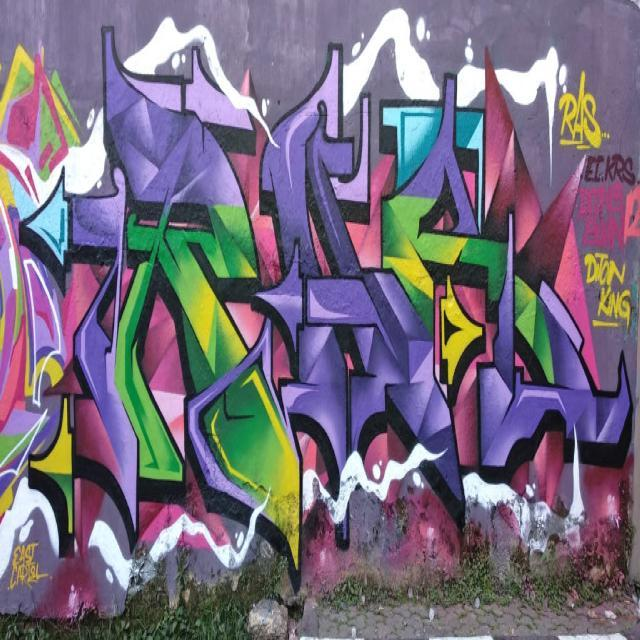-: (25, 24, 633, 534), (0, 43, 83, 523), (582, 252, 632, 328), (560, 69, 606, 150), (578, 185, 638, 246), (586, 154, 635, 186), (10, 548, 48, 588)
